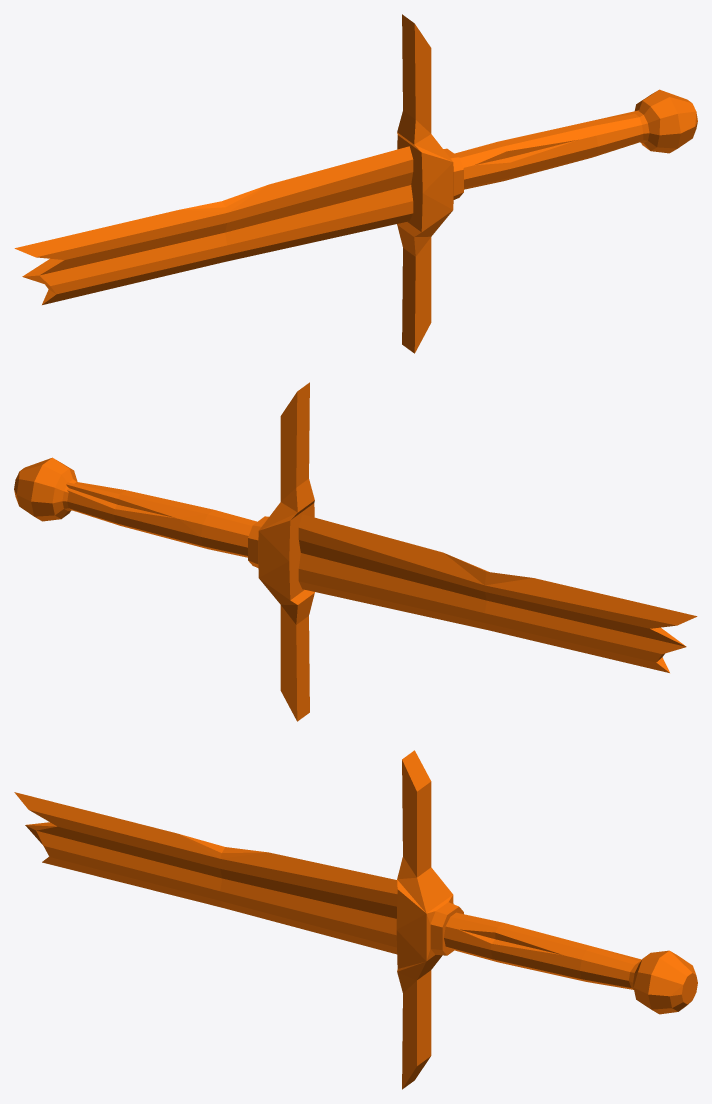
Rendered from CGM_ENV_WEP_sword1.fbx.
3 renders of one model, top to bottom at view 1: azimuth 30°, elevation 25°; view 2: azimuth 150°, elevation 25°; view 3: azimuth 330°, elevation 25°, orthographic.
Visible parts, largest first — view 1: CGM_ENV_WEP_sword1; view 2: CGM_ENV_WEP_sword1; view 3: CGM_ENV_WEP_sword1.
Part boxes in pixels (x1,y1,x2,y2): CGM_ENV_WEP_sword1: [14, 14, 697, 353]; CGM_ENV_WEP_sword1: [14, 382, 697, 721]; CGM_ENV_WEP_sword1: [14, 750, 697, 1089].
Bounding box in the file's own units: 79.41 × 37.09 × 6.67.
